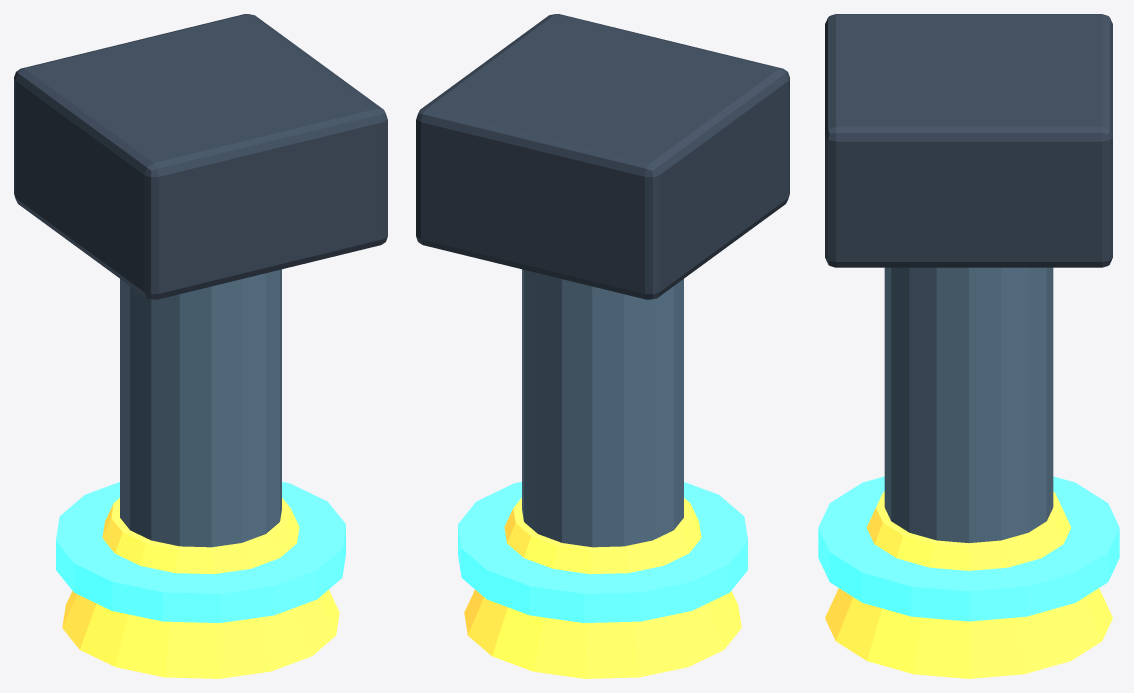
The model's file is silo-loader-head-v4-low.glb.
3 views of the same model, side by side, from view 1: azimuth 30°, elevation 25°; view 2: azimuth 150°, elevation 25°; view 3: azimuth 270°, elevation 25° (orthographic). The views are drawn at different scales.
Parts seen in each view (by area): view 1: loader-valve-box.001, loader-bellows.001, loader-skirt.001, loader-ring-glow.001; view 2: loader-valve-box.001, loader-bellows.001, loader-skirt.001, loader-ring-glow.001; view 3: loader-valve-box.001, loader-bellows.001, loader-skirt.001, loader-ring-glow.001.
Part boxes in pixels (bbox=[...]): loader-valve-box.001: bbox=[14, 14, 387, 299]; loader-bellows.001: bbox=[120, 269, 281, 547]; loader-skirt.001: bbox=[62, 497, 339, 678]; loader-ring-glow.001: bbox=[56, 482, 345, 622]; loader-valve-box.001: bbox=[416, 14, 789, 299]; loader-bellows.001: bbox=[522, 269, 683, 547]; loader-skirt.001: bbox=[464, 497, 741, 678]; loader-ring-glow.001: bbox=[458, 482, 747, 622]; loader-valve-box.001: bbox=[825, 14, 1112, 267]; loader-bellows.001: bbox=[884, 267, 1053, 542]; loader-skirt.001: bbox=[825, 491, 1112, 678]; loader-ring-glow.001: bbox=[818, 476, 1119, 621].
Bounding box in the file's own units: 1.36 × 2.73 × 1.36.
